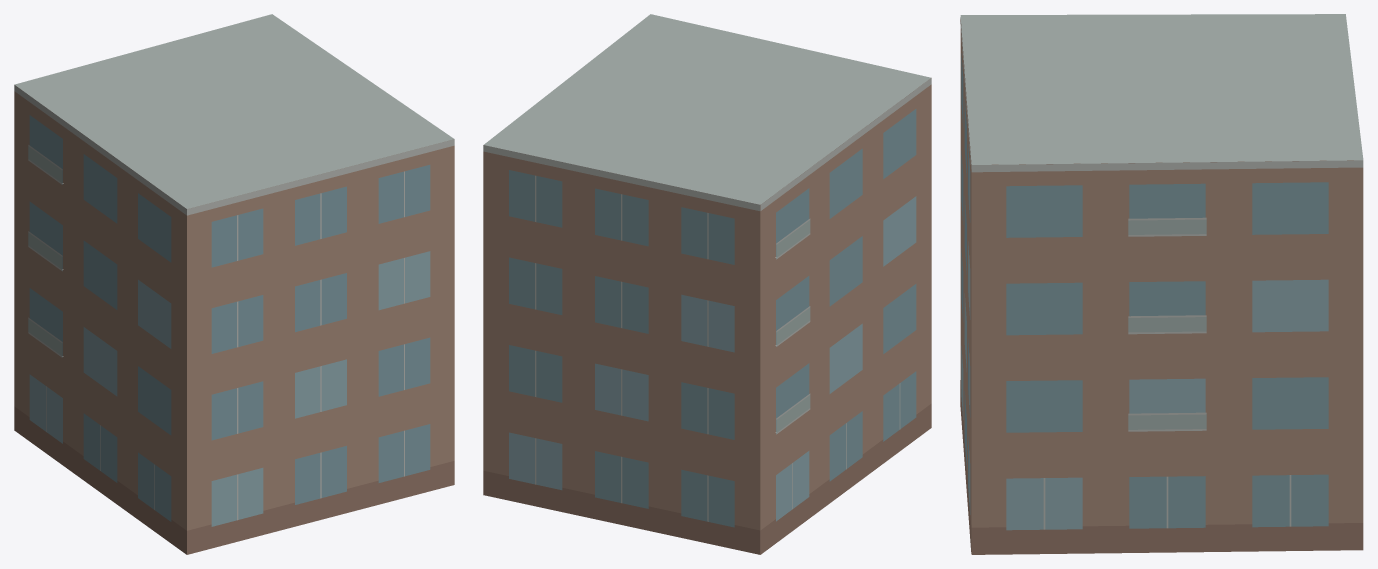
File: survey-upis-32635002.glb
The picture shows the model from 3 angles, left to right: view 1: azimuth 30°, elevation 25°; view 2: azimuth 150°, elevation 25°; view 3: azimuth 270°, elevation 25°; orthographic projection. The views are drawn at different scales.
Parts seen in each view (by area): view 1: survey-upis-32635002.tmp; view 2: survey-upis-32635002.tmp; view 3: survey-upis-32635002.tmp.
Part boxes in pixels (bbox=[...]): survey-upis-32635002.tmp: bbox=[14, 14, 454, 554]; survey-upis-32635002.tmp: bbox=[483, 14, 931, 554]; survey-upis-32635002.tmp: bbox=[960, 14, 1363, 554].
Size of the model in its own units: 10.92 by 13.1 by 12.28.
